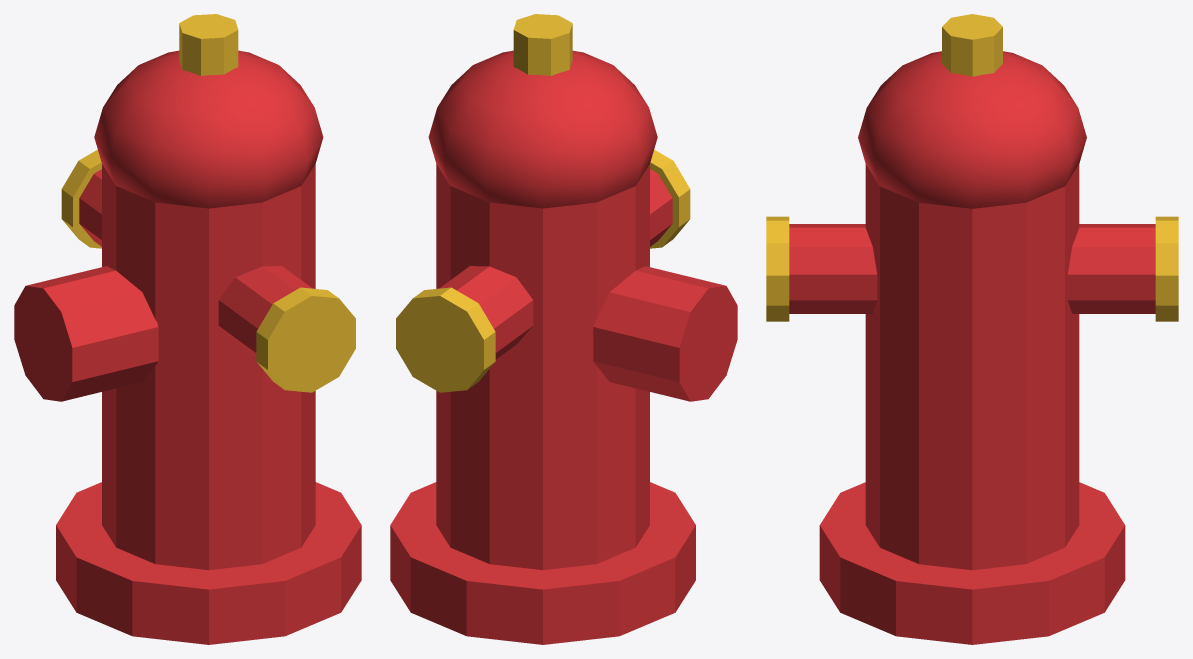
Rendered from hydrant.glb.
3 views of the same model, side by side, from view 1: azimuth 30°, elevation 25°; view 2: azimuth 150°, elevation 25°; view 3: azimuth 270°, elevation 25° (orthographic).
Visible parts, largest first — view 1: hydrant; view 2: hydrant; view 3: hydrant.
Part boxes in pixels (x1=…): hydrant: x1=14, y1=14, x2=361, y2=644; hydrant: x1=390, y1=14, x2=737, y2=644; hydrant: x1=766, y1=14, x2=1178, y2=644.
Size of the model in its own units: 0.45 by 0.8 by 0.54.
